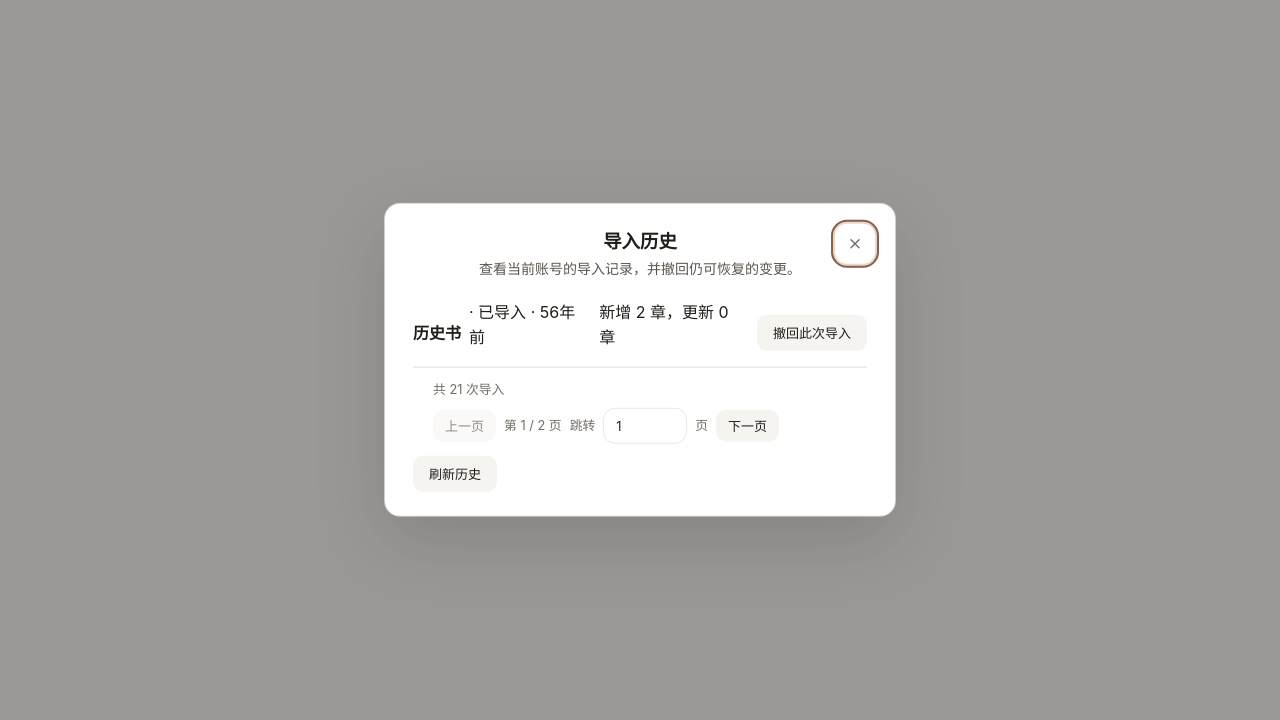
Test case: 回滚失败保留入口和错误，下次重试保持操作 ID
The image size is (1280, 720).
Click the button "撤回此次导入". click: x=812, y=333
box: [757, 315, 867, 351]
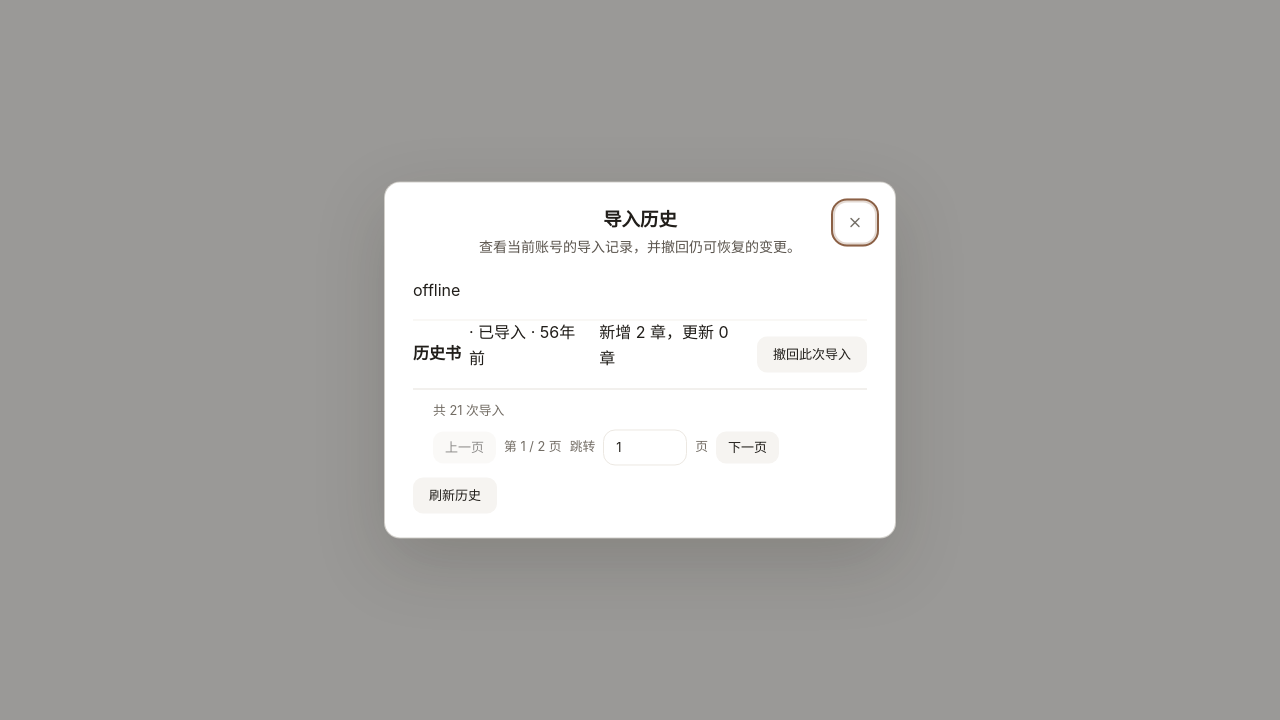
expect the message reads "offline": met, box [413, 280, 460, 300]
Click the button "撤回此次导入". click: x=812, y=354
box: [757, 336, 867, 372]
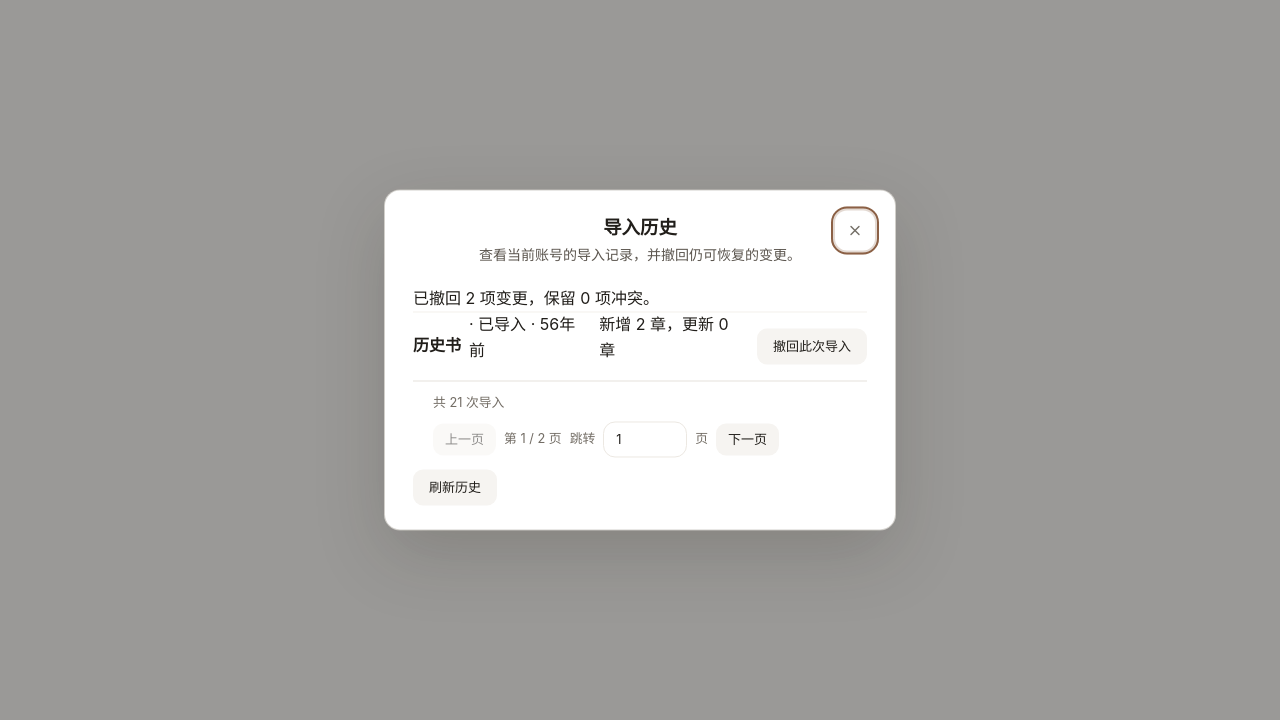
expect the text "已撤回 2 项变更，保留 0 项冲突。" is shown: met, box [413, 288, 659, 308]
